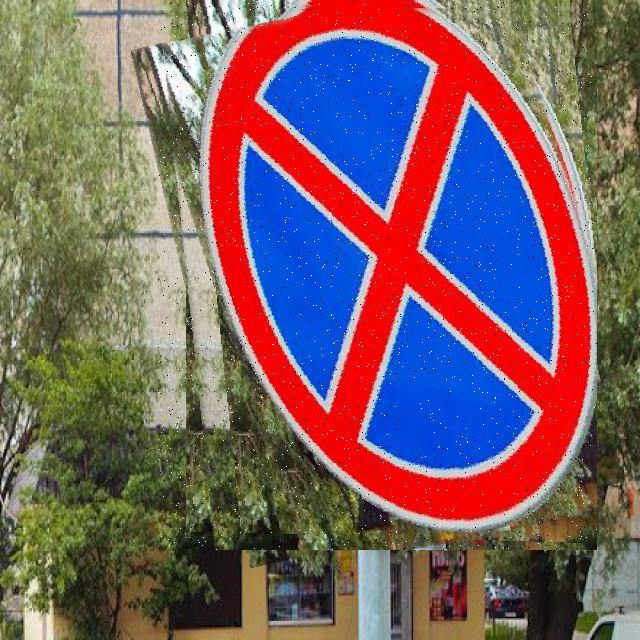no stopping: (158, 0, 597, 550)
